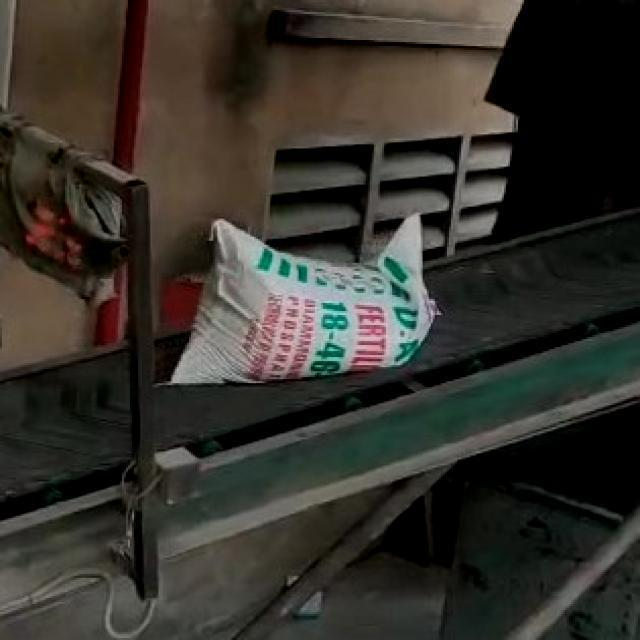gunny_bag: (173, 216, 437, 384)
